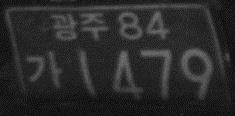1: (76, 46, 98, 99)
4: (109, 47, 145, 101), (145, 10, 170, 42)
7: (140, 48, 172, 101)
8: (116, 10, 143, 42)
9: (180, 46, 215, 103)
가: (26, 49, 64, 89)
광주_O: (49, 12, 108, 42)
